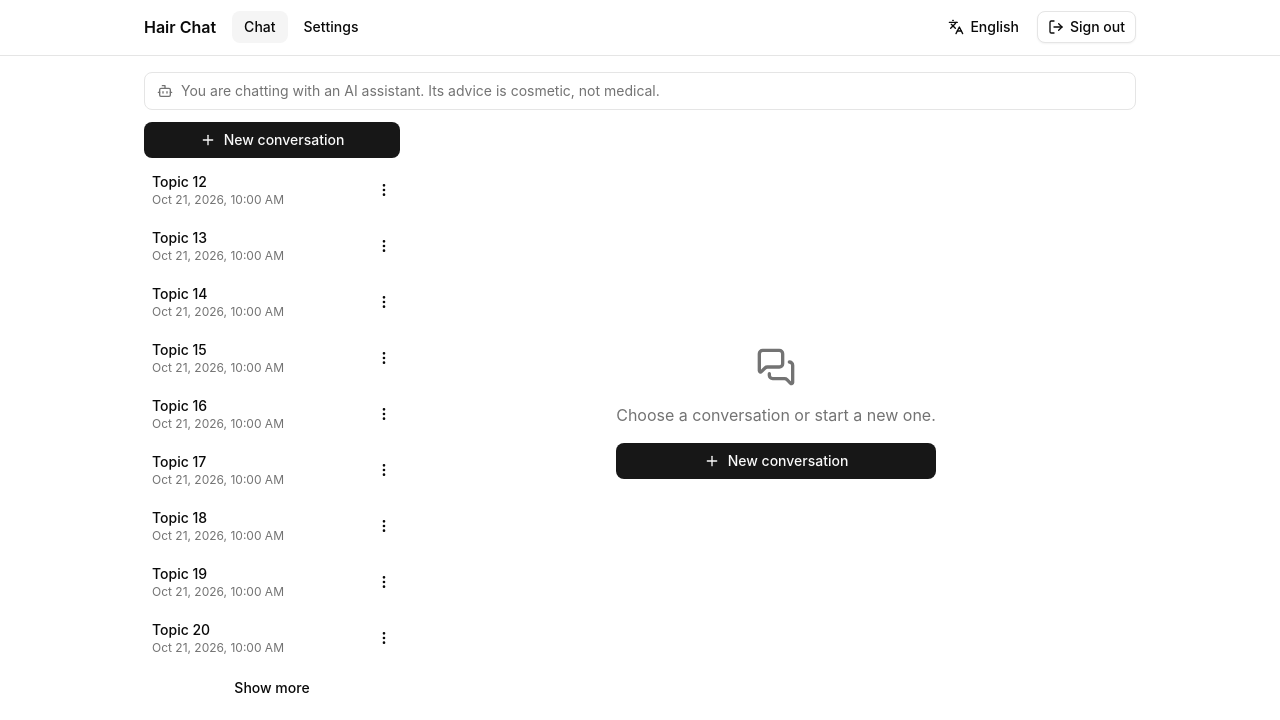
Test: conversation list › shows conversations and loads more by cursor
(page scrolled)
Check: the link "Topic 20 Oct 21, 2026, 10:00 AM" is shown, box [152,621,284,655]
Check: the link "Topic 21" is not shown
Click the button "Show more": (272, 688) [144,672,400,704]
(page scrolled)
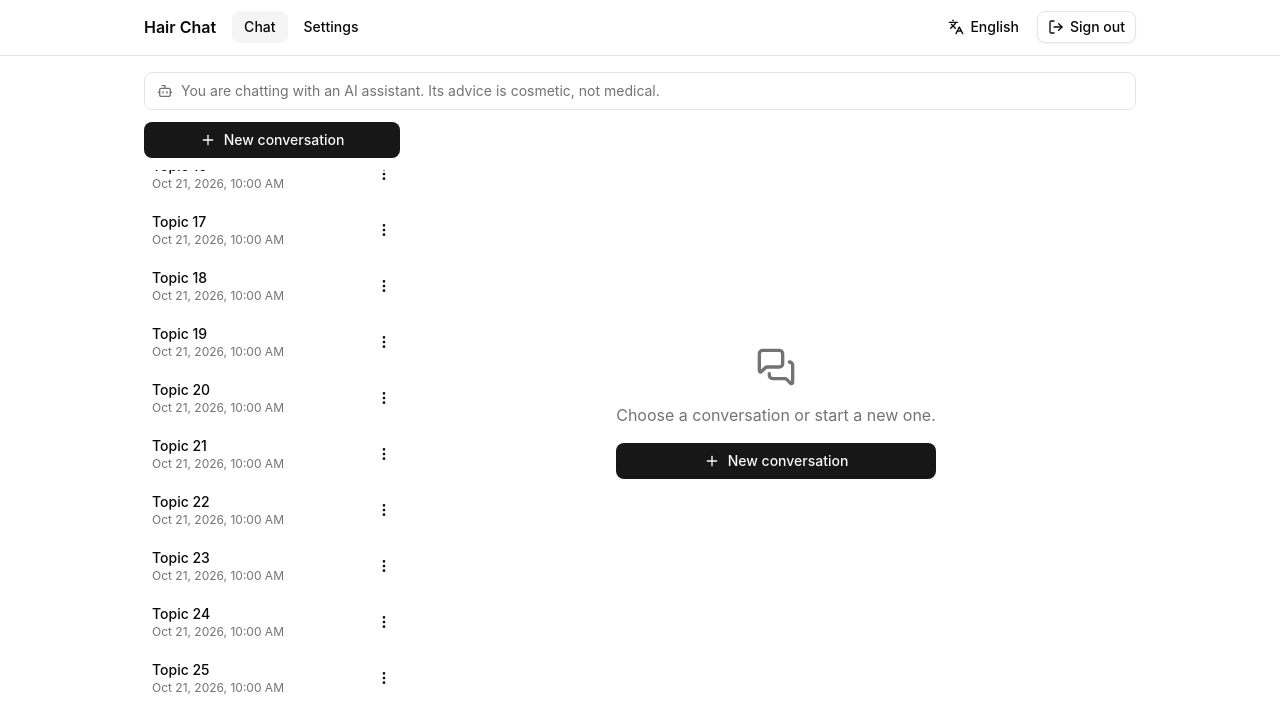
Check: the link "Topic 25 Oct 21, 2026, 10:00 AM" is shown, box [152,661,284,695]
Check: the button "Show more" is gone
